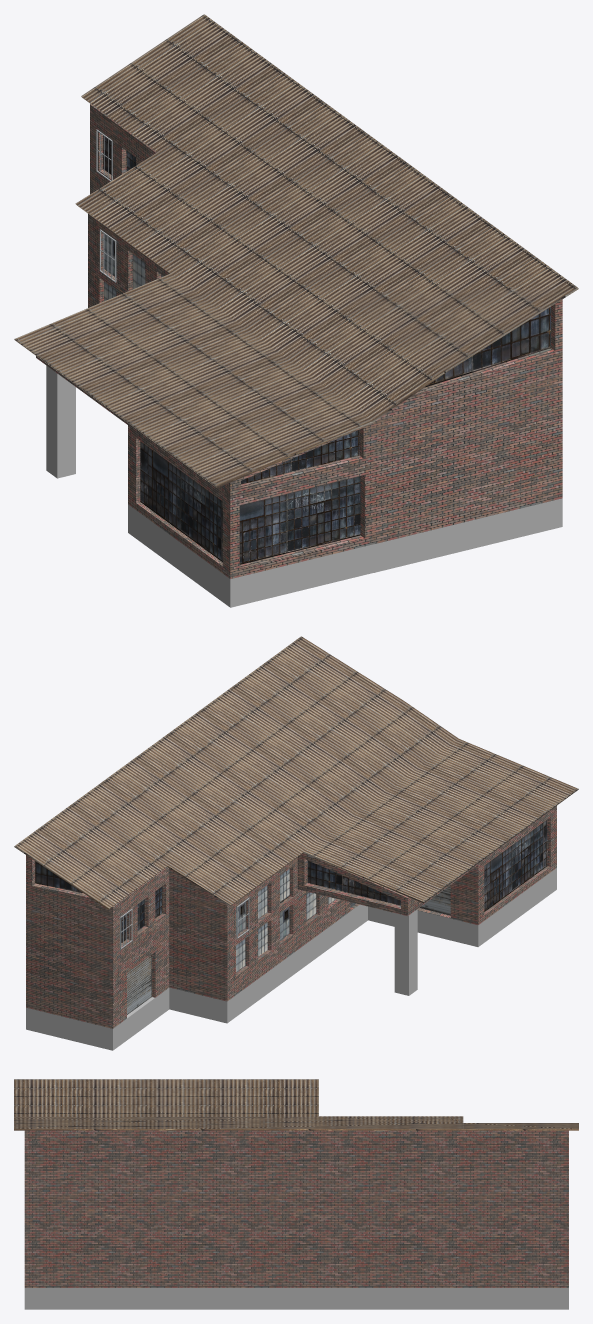
The model's file is house3_lod2.fbx.
3 renders of one model, top to bottom at view 1: azimuth 30°, elevation 25°; view 2: azimuth 150°, elevation 25°; view 3: azimuth 270°, elevation 25°, orthographic. The views are drawn at different scales.
Parts seen in each view (by area): view 1: Mesh Object; view 2: Mesh Object; view 3: Mesh Object.
Boxes of the visible parts, x1,y1,x2,y2 form: Mesh Object: (14, 14, 578, 607); Mesh Object: (14, 636, 578, 1050); Mesh Object: (14, 1079, 578, 1309).
Size of the model in its own units: 12.02 by 7.72 by 21.41.
